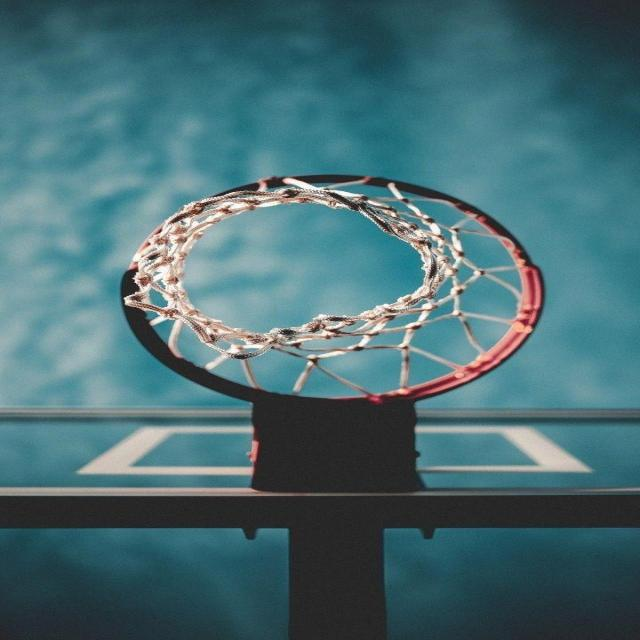hoop: (161, 143, 554, 435)
